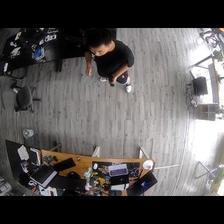normal: (85, 30, 135, 94)
